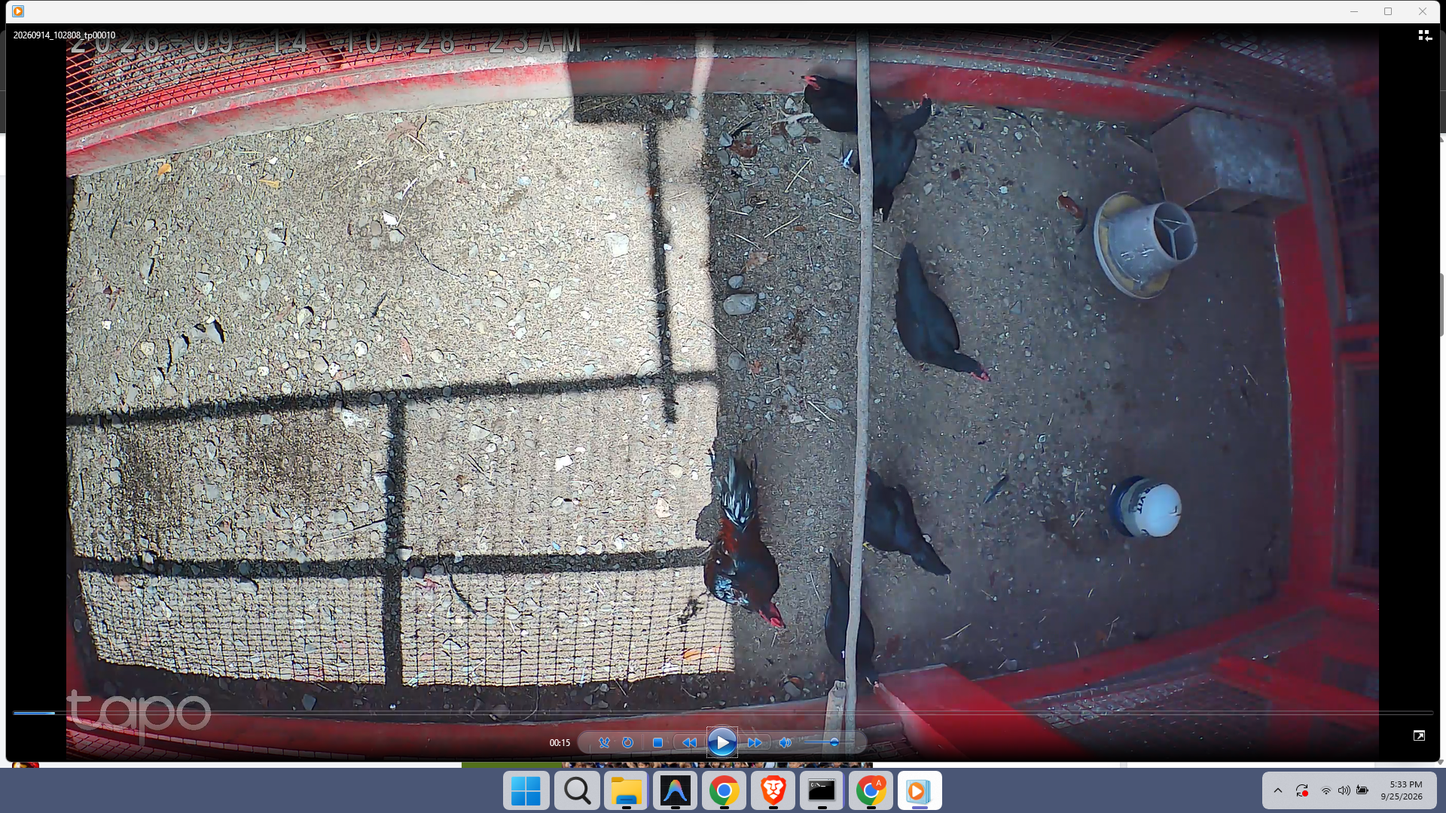Chicken: (893, 240, 993, 382), (831, 88, 934, 219), (865, 463, 956, 582), (815, 547, 883, 688), (764, 67, 888, 139)
Drinker: (1107, 470, 1193, 546)
Feeder: (1091, 187, 1201, 303)
Rooster: (698, 451, 790, 635)
